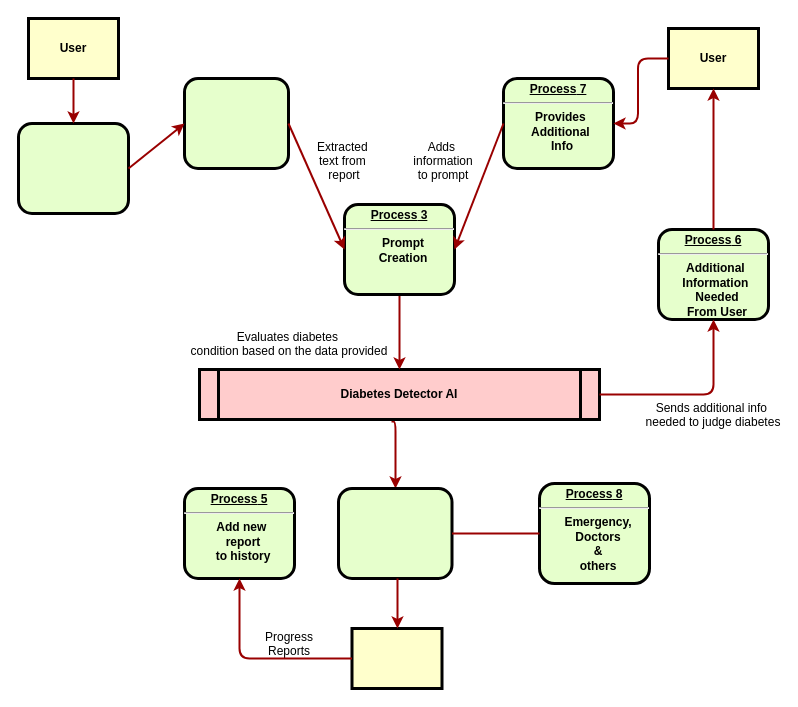
Image size: 798x707. Some labels were removed from this diagram. Here are the shapes that lost their labels. From the top down, the box of each, then its label:
(182, 76, 290, 170): Process 2 Tesseract OCR Text Extraction
(16, 122, 130, 214): Process 1 Upload Report Image
(336, 486, 453, 580): Process 4 Gives Final Verdict of Diabetes
(350, 626, 443, 690): Creates Reoprt
